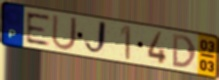1: (119, 24, 132, 62)
4: (146, 30, 169, 67)
D: (171, 32, 198, 70)
E: (25, 11, 51, 48)
J: (83, 19, 109, 57)
U: (51, 13, 79, 52)
